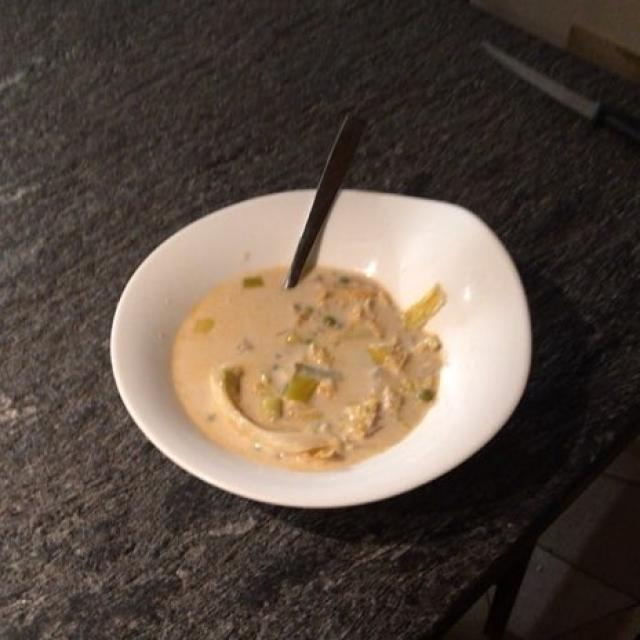vegetables: (206, 280, 442, 461)
